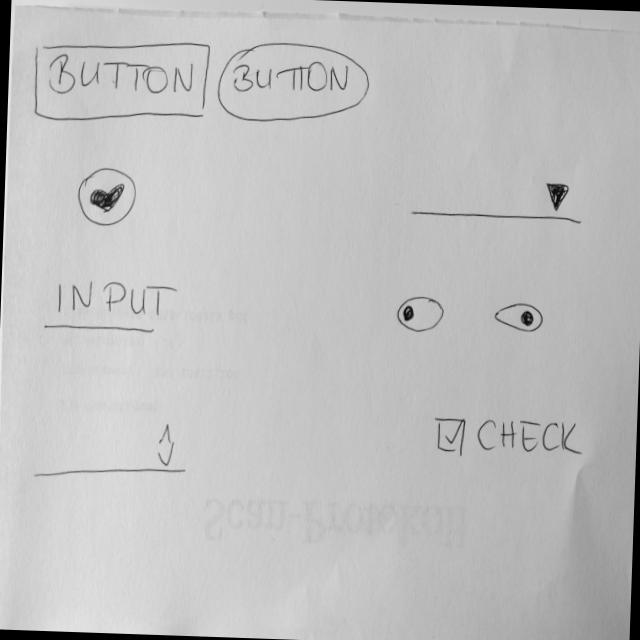button: (31, 34, 212, 128), (215, 38, 372, 128), (75, 165, 138, 229)
checkbox: (432, 408, 585, 462)
input: (40, 275, 182, 338)
number-input: (30, 412, 191, 488)
select: (410, 170, 584, 224)
toggle: (393, 292, 445, 334), (492, 299, 546, 336)
